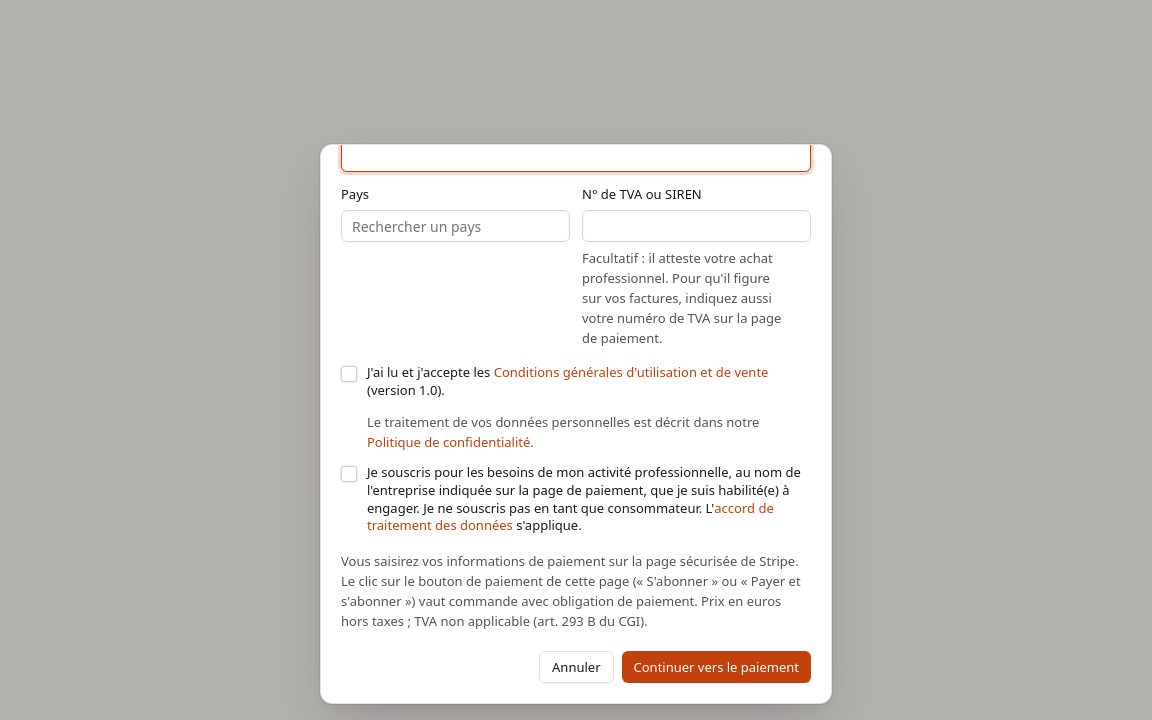
CheckoutDialog in French › speaks French and links the French Terms
(page scrolled)
Check: the dialog "Passer à l'offre Starter" is shown, box [320, 144, 832, 704]
Check: the field labelled "Nom ou dénomination de l'entreprise" is shown, box [341, 144, 811, 172]
Click the button "Continuer vers le paiement" at (716, 667), box [622, 651, 811, 683]
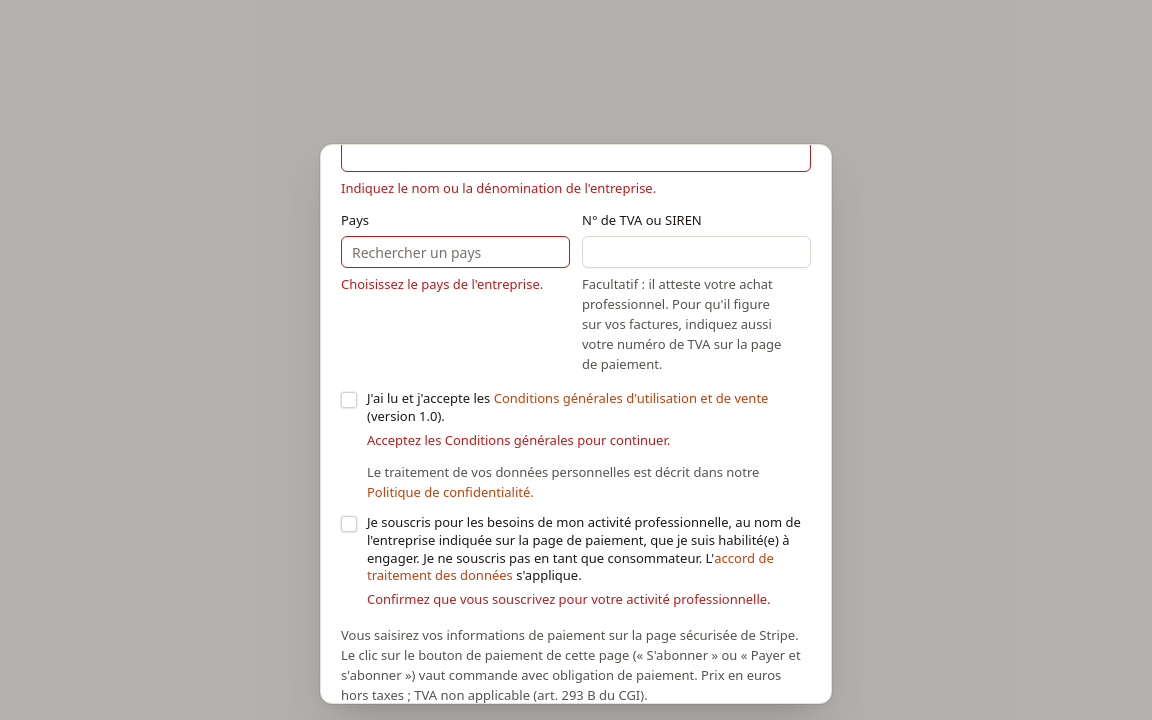
Check: the text "Acceptez les Conditions générales pour continuer." is shown, box [367, 431, 670, 449]
